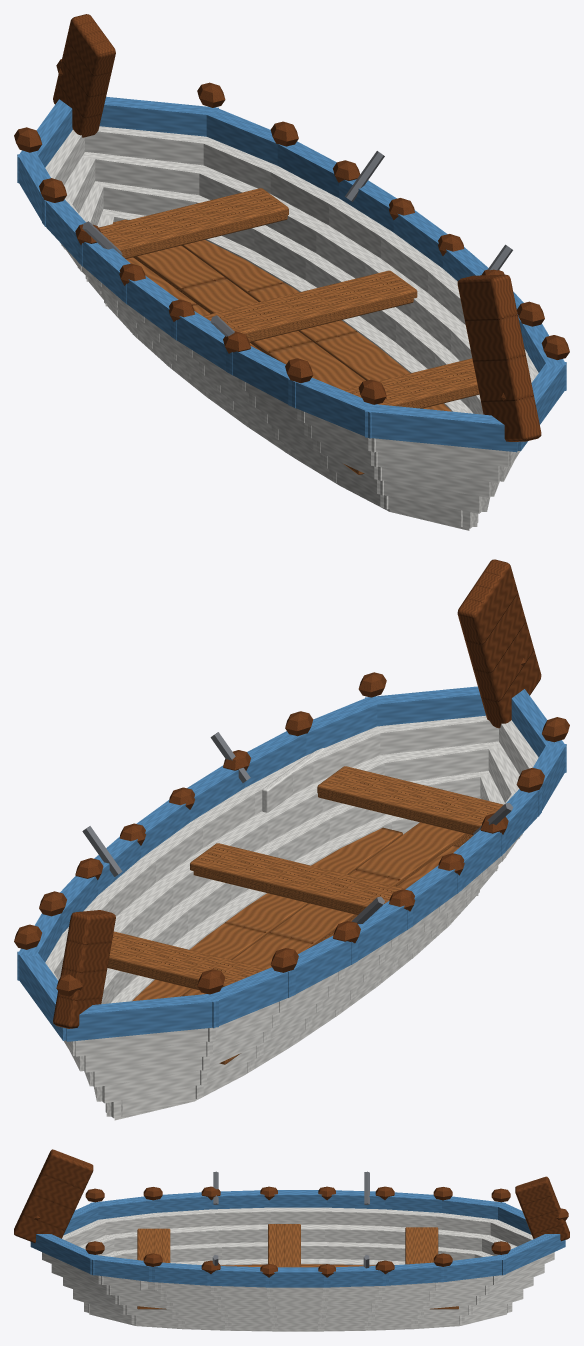
The model's file is boat_fishing.glb.
The picture shows the model from 3 angles, top to bottom: view 1: azimuth 30°, elevation 25°; view 2: azimuth 150°, elevation 25°; view 3: azimuth 270°, elevation 25°; orthographic projection. The views are drawn at different scales.
Parts seen in each view (by area): view 1: fishing-boat-small; view 2: fishing-boat-small; view 3: fishing-boat-small.
Boxes of the visible parts, left/top/right/bottom form: fishing-boat-small: left=14, top=14, right=569, bottom=530; fishing-boat-small: left=14, top=559, right=569, bottom=1120; fishing-boat-small: left=14, top=1149, right=569, bottom=1331.
Size of the model in its own units: 1.49 by 1.31 by 4.05.
Materials: 5 (4 with a texture image).
